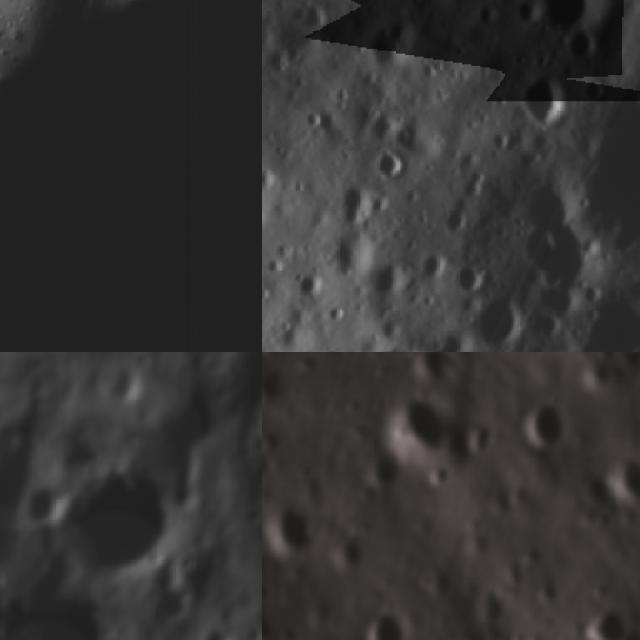crater: (0, 0, 262, 352), (543, 39, 640, 277), (49, 452, 187, 572), (499, 57, 588, 149), (4, 569, 116, 640), (517, 0, 626, 54), (456, 286, 533, 352), (139, 564, 193, 640), (389, 384, 434, 470), (104, 352, 159, 421), (324, 326, 462, 352), (440, 258, 494, 312), (360, 138, 414, 192), (262, 506, 317, 557), (556, 23, 608, 75), (588, 459, 640, 506), (526, 398, 566, 448), (29, 479, 66, 528), (591, 609, 623, 640), (374, 616, 400, 640), (199, 628, 235, 640), (591, 352, 612, 360)
